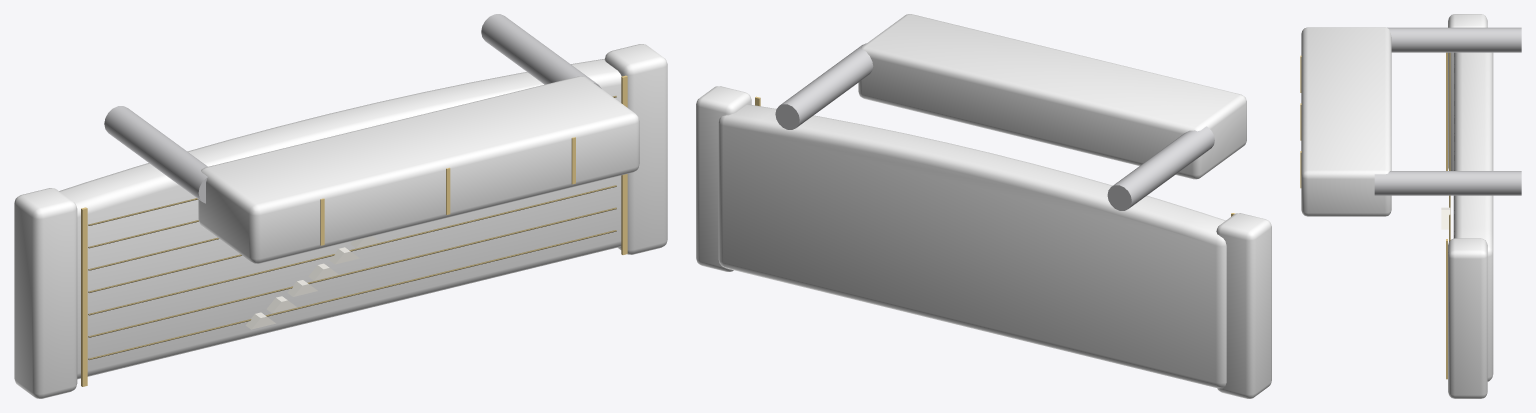
The picture shows the model from 3 angles, left to right: view 1: azimuth 30°, elevation 25°; view 2: azimuth 150°, elevation 25°; view 3: azimuth 270°, elevation 25°; orthographic projection. The views are drawn at different scales.
Parts seen in each view (by area): view 1: koto_default; view 2: koto_default; view 3: koto_default.
Boxes of the visible parts, <box> form: koto_default: <box>14,14,667,398</box>; koto_default: <box>696,14,1271,398</box>; koto_default: <box>1300,14,1521,398</box>.
Bounding box in the file's own units: 1.01 × 0.355 × 0.3915.
